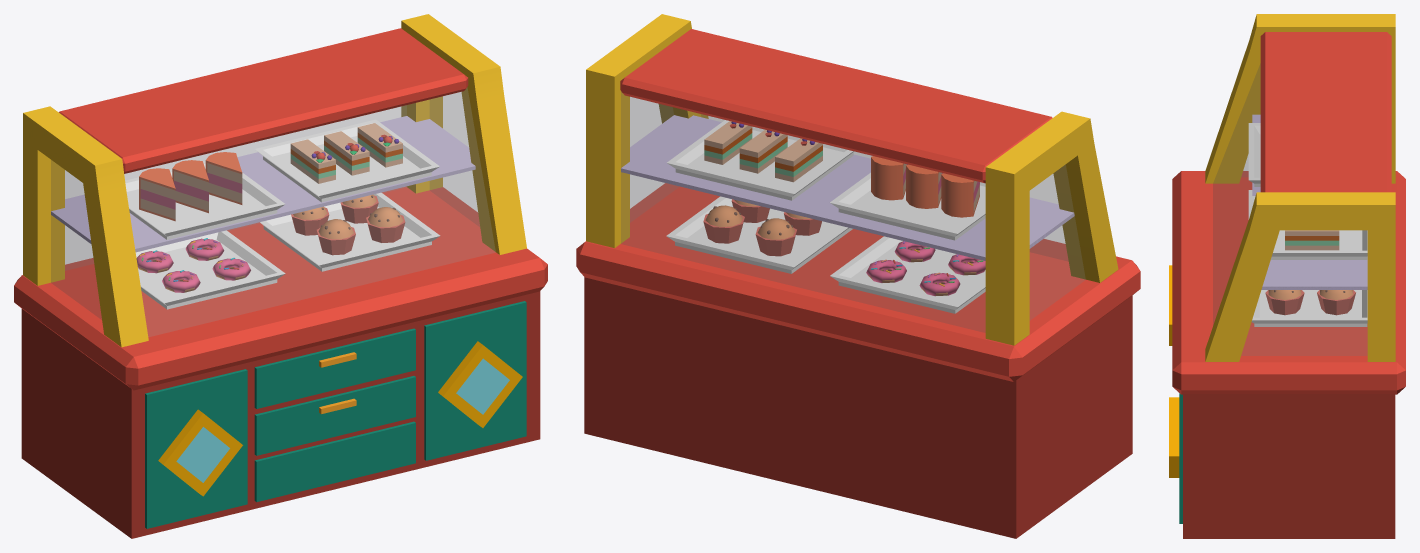
Rendered from Bakery_lv5.fbx.
3 views of the same model, side by side, from view 1: azimuth 30°, elevation 25°; view 2: azimuth 150°, elevation 25°; view 3: azimuth 270°, elevation 25° (orthographic). The views are drawn at different scales.
Parts seen in each view (by area): view 1: Bakery_lv5; view 2: Bakery_lv5; view 3: Bakery_lv5.
Boxes of the visible parts, x1=… form: Bakery_lv5: x1=14, y1=14, x2=547, y2=538; Bakery_lv5: x1=576, y1=14, x2=1140, y2=538; Bakery_lv5: x1=1169, y1=14, x2=1405, y2=538.
Size of the model in its own units: 310 by 242 by 156.
